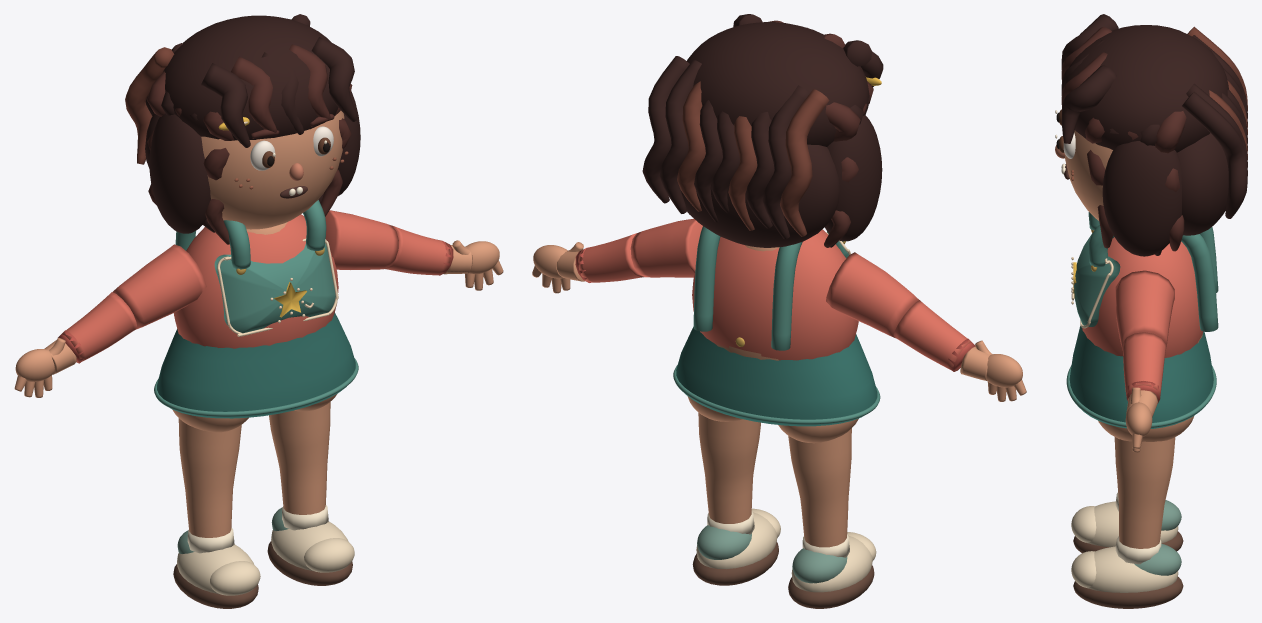
The picture shows the model from 3 angles, left to right: view 1: azimuth 30°, elevation 25°; view 2: azimuth 150°, elevation 25°; view 3: azimuth 270°, elevation 25°; orthographic projection. The views are drawn at different scales.
Visible parts, largest first — view 1: Hair, Pinafore, Shirt, Legs, Shoes, Head, Hands, Face; view 2: Hair, Shirt, Pinafore, Legs, Shoes, Hands; view 3: Hair, Pinafore, Shirt, Shoes, Legs, Head, Hands, Face.
Boxes of the visible parts, left/top/right/bottom form: Hair: left=125, top=14, right=360, bottom=244; Pinafore: left=154, top=200, right=358, bottom=418; Shirt: left=57, top=210, right=453, bottom=363; Legs: left=172, top=393, right=337, bottom=553; Shoes: left=173, top=507, right=354, bottom=608; Head: left=201, top=110, right=344, bottom=229; Hands: left=14, top=240, right=503, bottom=397; Face: left=234, top=114, right=348, bottom=198; Hair: left=642, top=14, right=883, bottom=247; Shirt: left=575, top=218, right=975, bottom=371; Pinafore: left=673, top=226, right=880, bottom=426; Legs: left=687, top=396, right=858, bottom=557; Shoes: left=692, top=508, right=876, bottom=608; Hands: left=532, top=242, right=1026, bottom=401; Hair: left=1061, top=14, right=1247, bottom=256; Pinafore: left=1066, top=212, right=1218, bottom=428; Shirt: left=1082, top=237, right=1203, bottom=403; Shoes: left=1071, top=500, right=1183, bottom=608; Legs: left=1098, top=416, right=1193, bottom=564; Head: left=1065, top=130, right=1112, bottom=220; Hands: left=1125, top=387, right=1158, bottom=452; Face: left=1055, top=109, right=1075, bottom=180.
Size of the model in its own units: 3.11 by 3.37 by 1.08.
